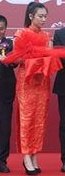boots: (0, 163, 10, 173), (0, 165, 6, 173)
